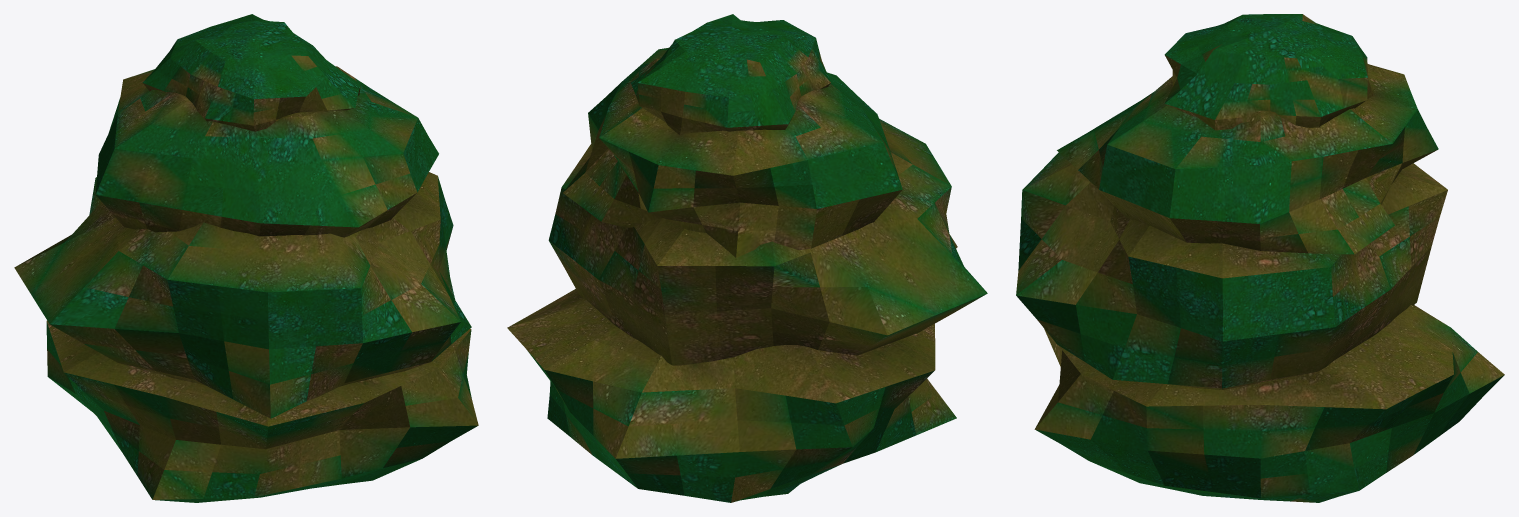
File: stack_1.glb
3 renders of one model, left to right at view 1: azimuth 30°, elevation 25°; view 2: azimuth 150°, elevation 25°; view 3: azimuth 270°, elevation 25°, orthographic. The views are drawn at different scales.
Visible parts, largest first — view 1: stack; view 2: stack; view 3: stack.
Boxes of the visible parts, x1,y1,x2,y2 form: stack: (14, 14, 478, 502); stack: (507, 14, 987, 502); stack: (1016, 14, 1504, 502).
Size of the model in its own units: 1.52 by 1.53 by 1.54.
Materials: 1 (1 with a texture image).
